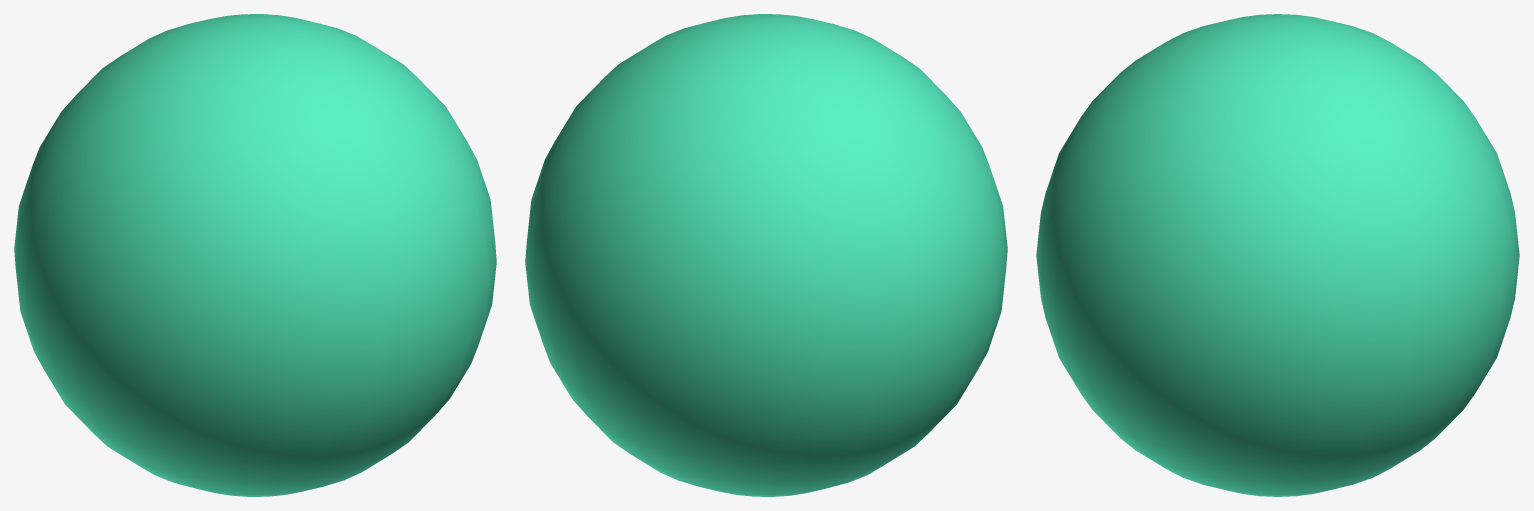
The model's file is freeze.fbx.
3 views of the same model, side by side, from view 1: azimuth 30°, elevation 25°; view 2: azimuth 150°, elevation 25°; view 3: azimuth 270°, elevation 25° (orthographic).
Visible parts, largest first — view 1: Line003; view 2: Line003; view 3: Line003.
Boxes of the visible parts, x1=… form: Line003: x1=14, y1=14, x2=496, y2=496; Line003: x1=525, y1=14, x2=1007, y2=496; Line003: x1=1036, y1=14, x2=1519, y2=496.
Size of the model in its own units: 58.87 by 58.87 by 58.87.
